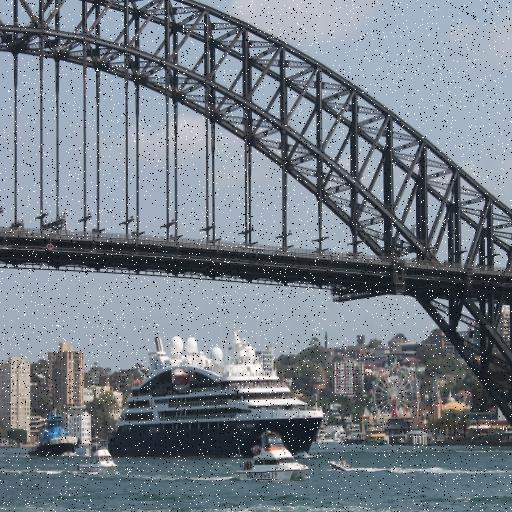cruises: (108, 326, 327, 468)
